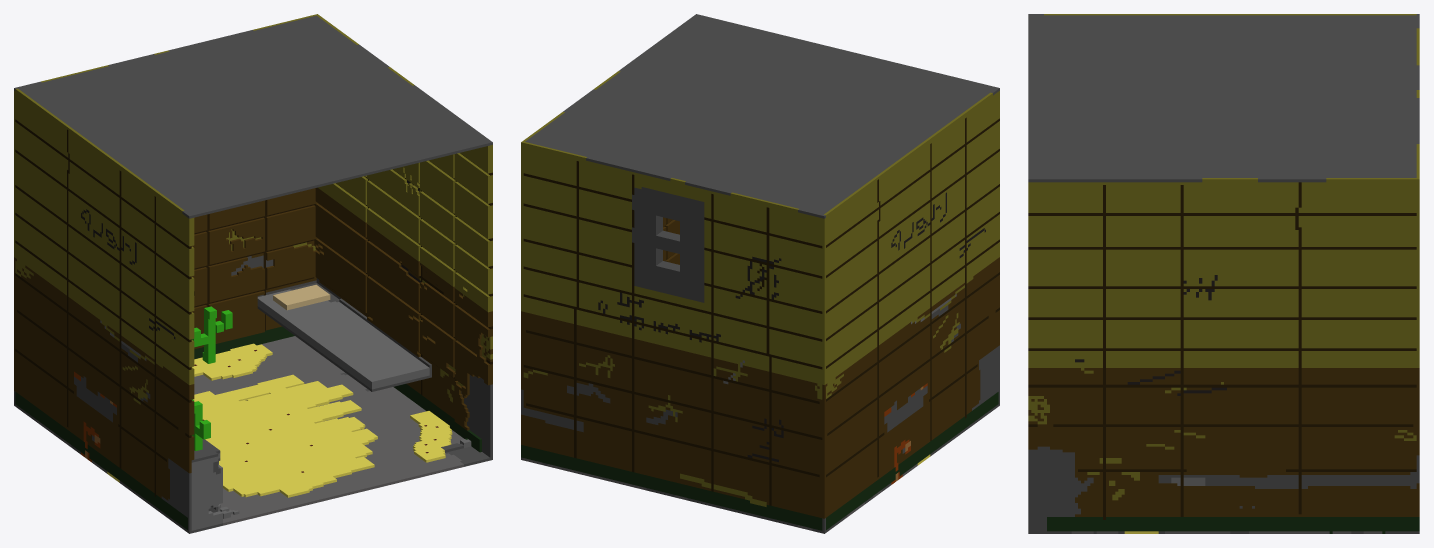
The model's file is NazJailTest.fbx.
The picture shows the model from 3 angles, left to right: view 1: azimuth 30°, elevation 25°; view 2: azimuth 150°, elevation 25°; view 3: azimuth 270°, elevation 25°; orthographic projection. The views are drawn at different scales.
Visible parts, largest first — view 1: NazJailCellV2:Mesh; view 2: NazJailCellV2:Mesh; view 3: NazJailCellV2:Mesh.
Part boxes in pixels (x1=…): NazJailCellV2:Mesh: x1=14, y1=14, x2=492, y2=533; NazJailCellV2:Mesh: x1=521, y1=14, x2=999, y2=533; NazJailCellV2:Mesh: x1=1028, y1=14, x2=1419, y2=533.
Bounding box in the file's own units: 126 × 126 × 126.
Materials: 1 (1 with a texture image).
